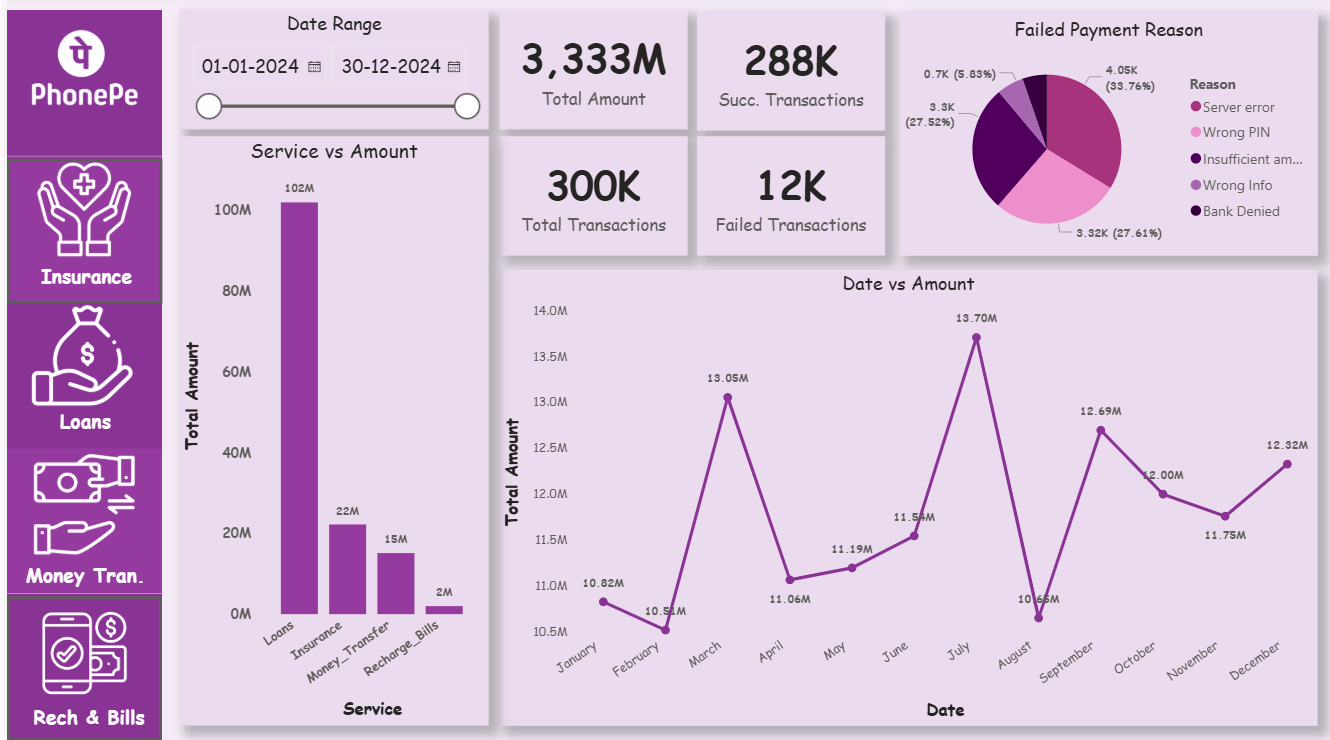

This screenshot's page, from the dashboard's own definition file:
{"tool":"powerbi","page":{"name":"Home Page","canvas":[1280,720],"ordinal":0},"visuals":[{"type":"shape","box":[0,14.5,149.6,141.2],"z":0},{"type":"image","box":[19.5,14.3,110.4,116.9],"z":1000},{"type":"shape","box":[0,156,149.6,141.2],"z":1000,"group":"g1"},{"type":"image","box":[19.5,148.4,110.4,116.9],"z":2000,"group":"g1"},{"type":"shape","box":[0,296.3,149.6,140.9],"z":2000,"group":"g4"},{"type":"image","box":[19.5,575.3,110.4,120.8],"z":2000},{"type":"slicer","title":"Date Range","fields":{"Values":["All_Transactions.Date"]},"box":[166.2,14.3,298.7,115.6],"z":3000},{"type":"image","box":[19.5,287,110.4,118.2],"z":3000,"group":"g4"},{"type":"shape","box":[0,437.2,149.6,140.9],"z":3000,"group":"g2"},{"type":"card","title":"Total Transaction Amount","fields":{"Values":["Sum(All_Transactions.Amount)"]},"box":[475.3,14.3,181.8,115.6],"z":4000},{"type":"shape","box":[0,578.1,149.6,140.9],"z":4000,"group":"g3"},{"type":"card","title":"Total Transaction Amount","fields":{"Values":["Count(All_Transactions.Transaction_ID)"]},"box":[666.2,15.6,181.8,115.6],"z":5000},{"type":"image","box":[19.5,432.5,110.4,116.9],"z":5000,"group":"g2"},{"type":"card","title":"Total Transaction Amount","fields":{"Values":["Count(All_Transactions.Transaction_ID)"]},"box":[475.3,136.4,181.8,115.6],"z":6000},{"type":"textbox","box":[11.7,252.3,129.9,36.4],"z":6000,"group":"g1"},{"type":"card","title":"Total Transaction Amount","fields":{"Values":["Count(All_Transactions.Transaction_ID)"]},"box":[666.2,136.4,181.8,115.6],"z":7000},{"type":"textbox","box":[10.4,540.2,129.9,36.4],"z":7000,"group":"g2"},{"type":"pieChart","title":"Failed Payment Reason","fields":{"Category":["All_Transactions.Reason"],"Y":["CountNonNull(All_Transactions.Reason)"]},"box":[861,15.6,403.9,236.4],"z":8000},{"type":"textbox","box":[10.4,392.2,129.9,36.4],"z":8000,"group":"g4"},{"type":"lineChart","title":"Date vs Amount","fields":{"Category":["All_Transactions.Date.Variation.Date Hierarchy.Month"],"Y":["Sum(All_Transactions.Amount)"]},"box":[475.3,264.9,789.6,440.3],"z":9000},{"type":"textbox","box":[14.3,677.9,129.9,36.4],"z":9000,"group":"g3"},{"type":"clusteredColumnChart","title":"Service vs Amount","fields":{"Y":["Sum(All_Transactions.Amount)"],"Category":["All_Transactions.Service"]},"box":[166.2,136.4,298.7,568.8],"z":10000},{"type":"group","id":"g1","title":"Group 1","box":[0,148.4,149.6,148.4],"z":11000},{"type":"group","id":"g2","title":"Group 3","box":[0,287,149.6,291.1],"z":12000},{"type":"group","id":"g3","title":"Group 4","box":[0,578.1,149.6,140.9],"z":13000},{"type":"actionButton","box":[0,580.3,149.6,139.9],"z":14000},{"type":"actionButton","box":[0,157.5,150,140],"z":15000},{"type":"group","id":"g4","title":"Group 2","box":[0,287,149.6,150.2],"z":17002,"group":"g2"},{"type":"image","box":[0,588.7,149.6,92.9],"z":17005,"group":"g3"}]}

Visuals, with their boxes in screenshot pixels (x1, y1, x2, y2), scaled from the page's 1280x720 canvas onto the 1330x740 screenshot:
shape: 0/15/155/160
image: 20/15/135/135
shape: 0/160/155/305
image: 20/153/135/273
shape: 0/305/155/449
image: 20/591/135/715
"Date Range" slicer: 173/15/483/134
image: 20/295/135/416
shape: 0/449/155/594
"Total Transaction Amount" card: 494/15/683/134
shape: 0/594/155/739
"Total Transaction Amount" card: 692/16/881/135
image: 20/445/135/565
"Total Transaction Amount" card: 494/140/683/259
textbox: 12/259/147/297
"Total Transaction Amount" card: 692/140/881/259
textbox: 11/555/146/593
"Failed Payment Reason" pieChart: 895/16/1314/259
textbox: 11/403/146/441
"Date vs Amount" lineChart: 494/272/1314/725
textbox: 15/697/150/734
"Service vs Amount" clusteredColumnChart: 173/140/483/725
"Group 1" group: 0/153/155/305
"Group 3" group: 0/295/155/594
"Group 4" group: 0/594/155/739
actionButton: 0/596/155/739
actionButton: 0/162/156/306
"Group 2" group: 0/295/155/449
image: 0/605/155/701
